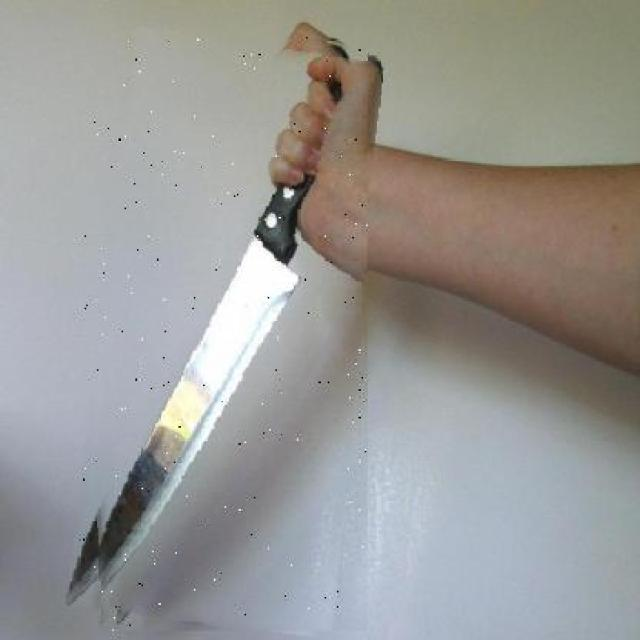knife: (83, 34, 368, 631)
